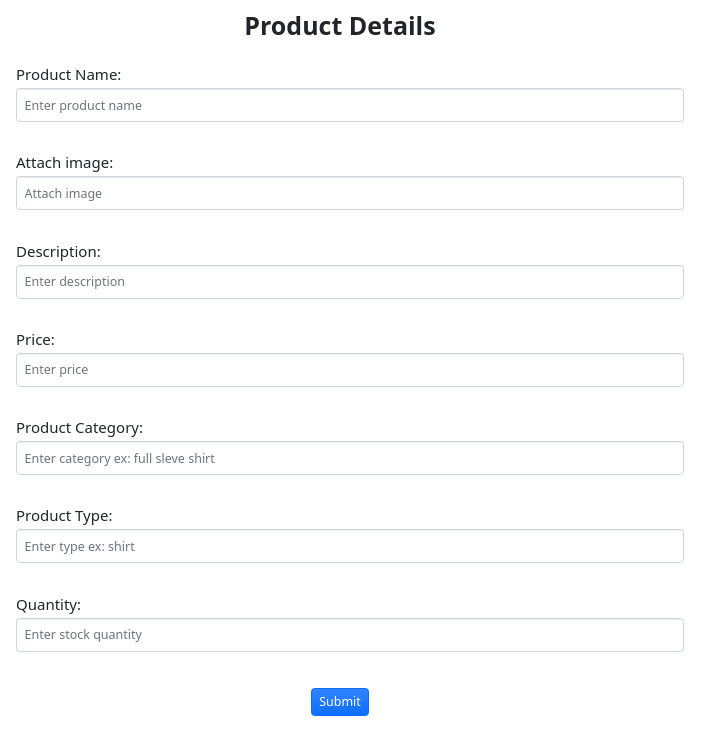
Scenario: Add Product › product name verification
Type "Shirt$" into the field with test id "productName".
click(350, 105); type("Shirt$")  # box [16,88,684,122]
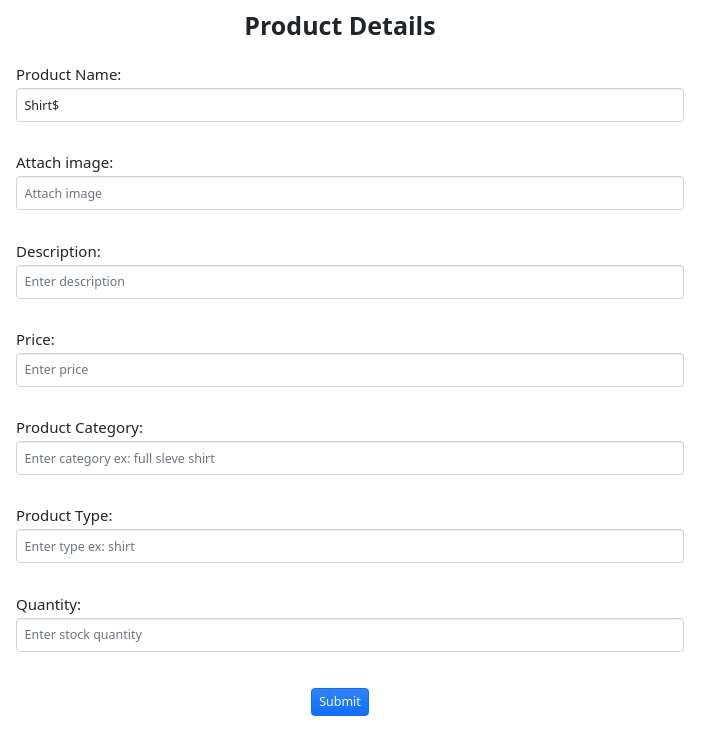
Leave the field with test id "productName", box [16,88,684,122]
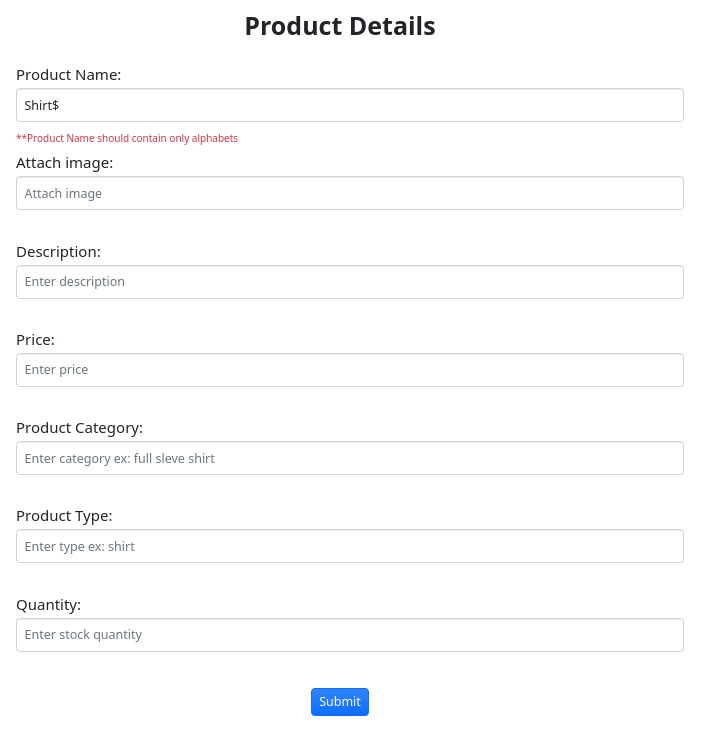
Check: the text "**Product Name should contain only alphabets" is shown, box [16,131,238,145]
